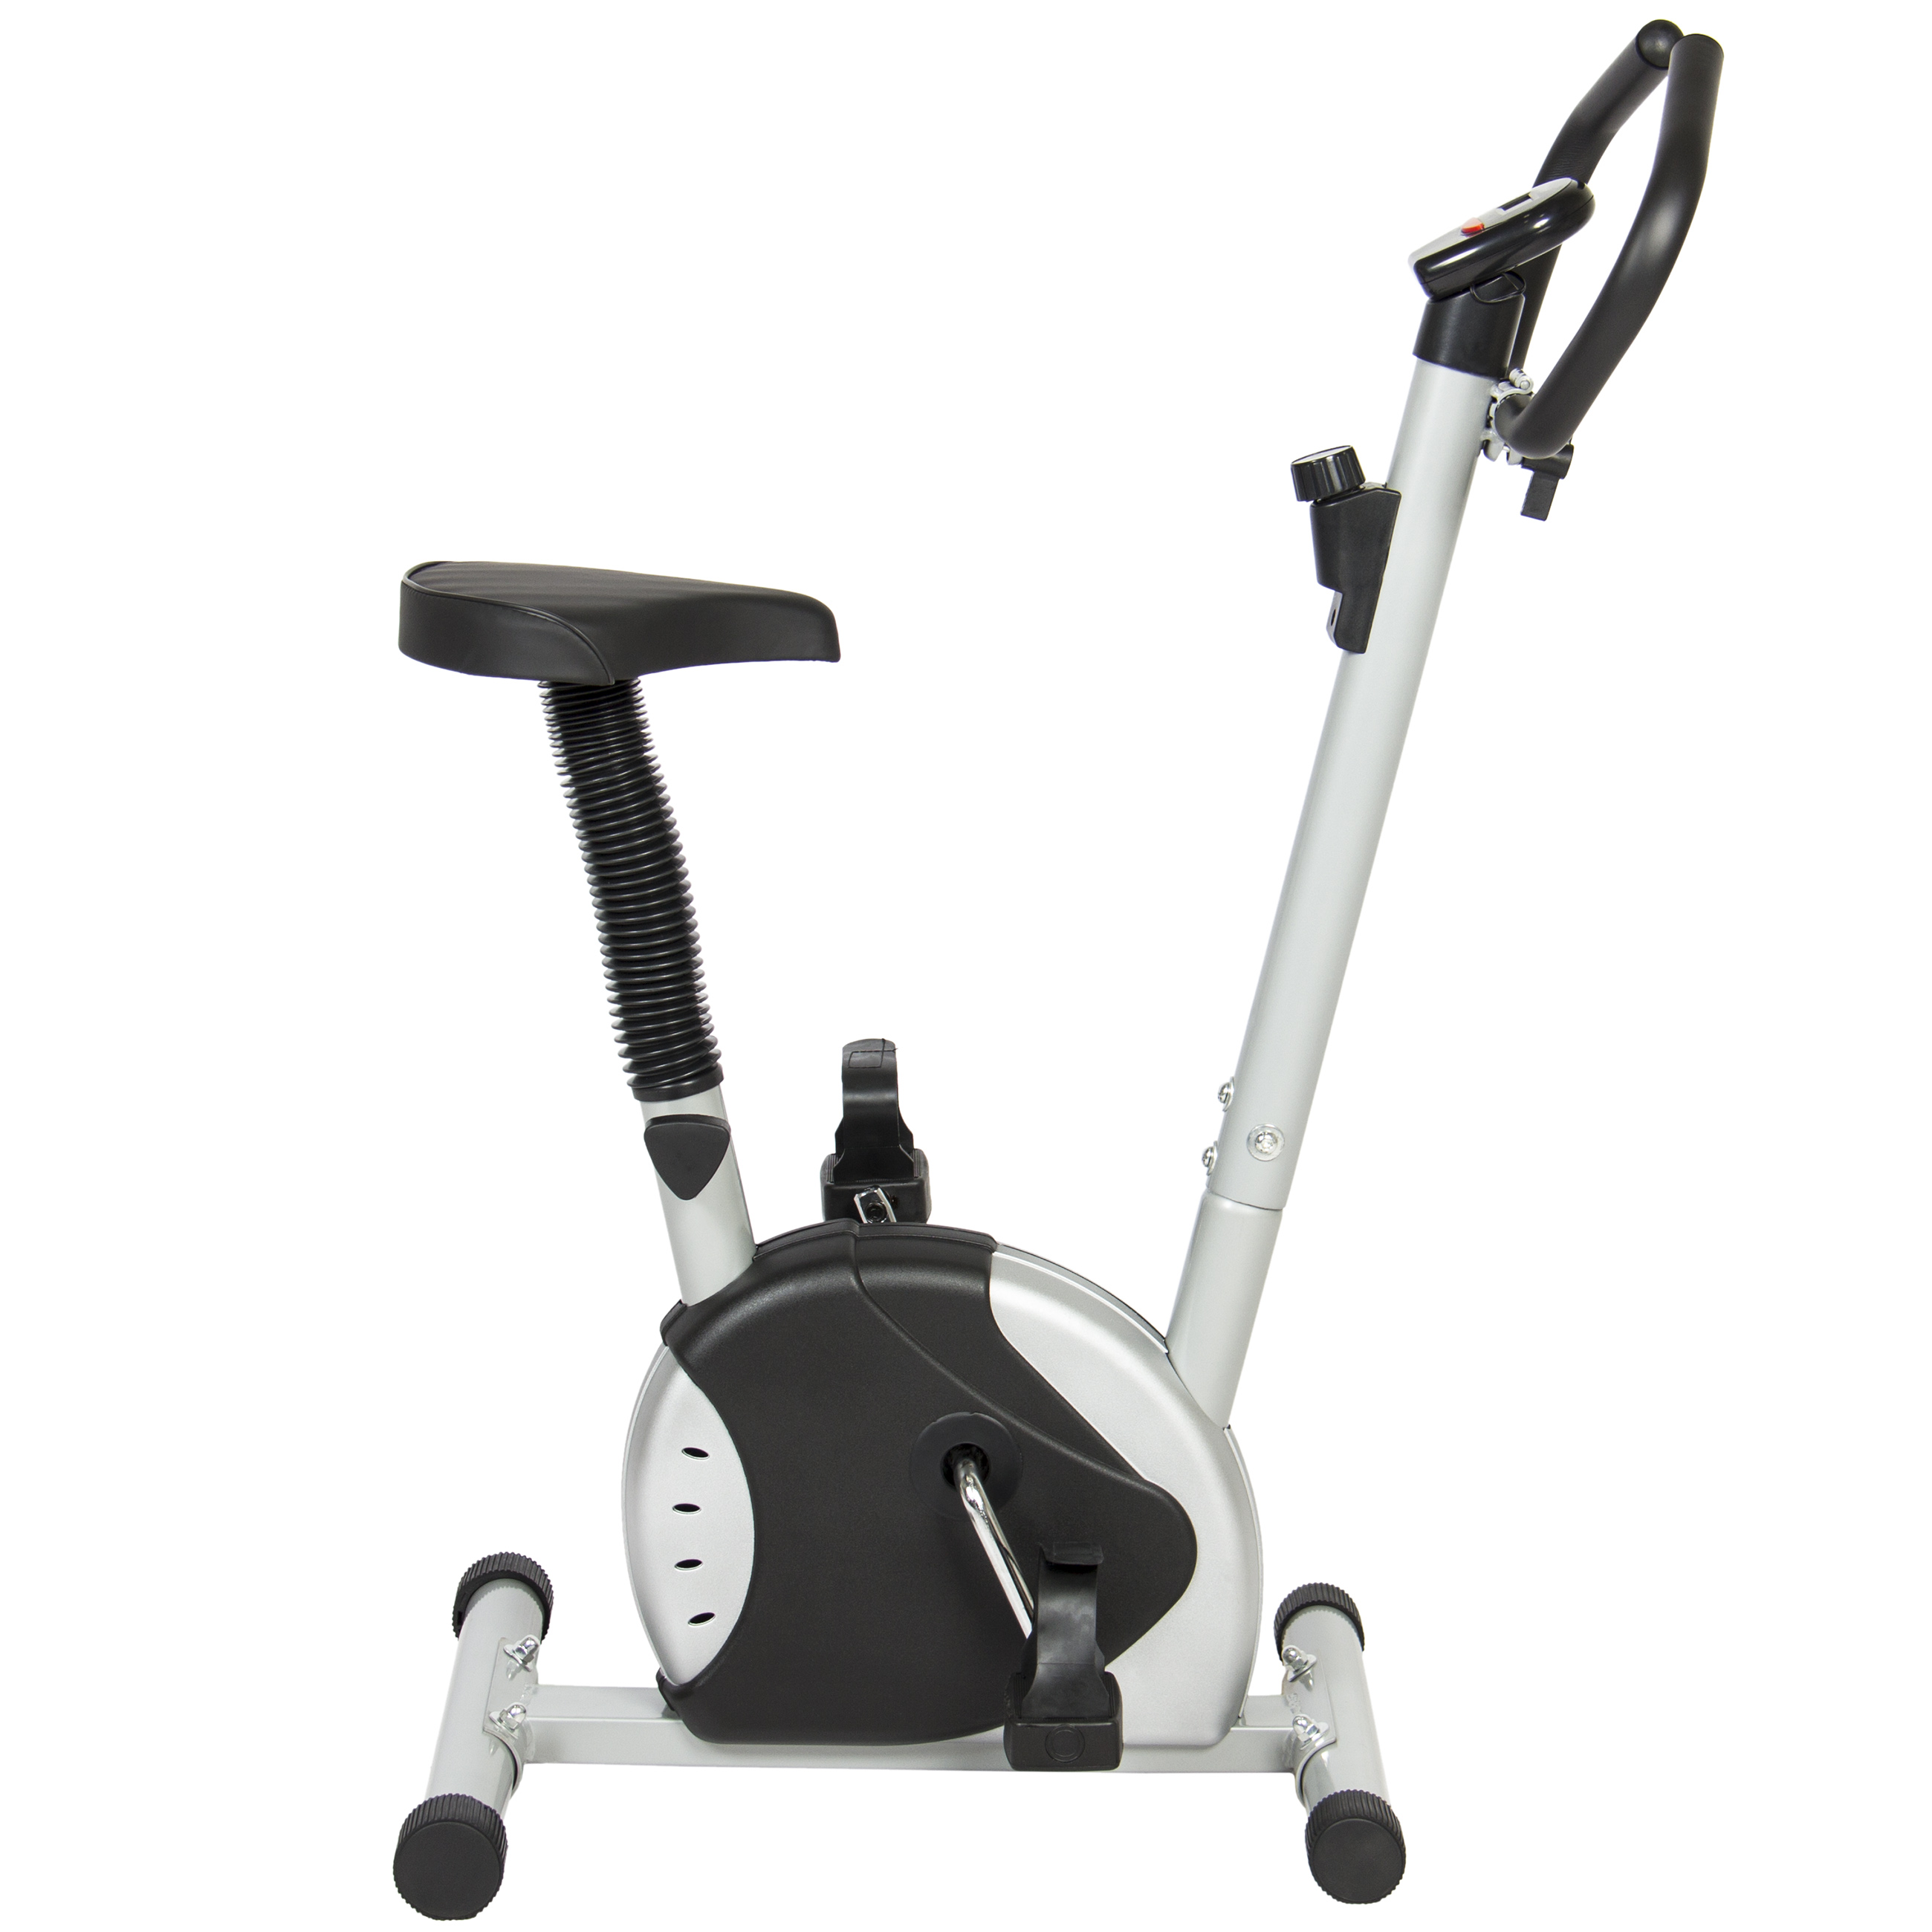gym_bike: (331, 32, 1737, 1907)
